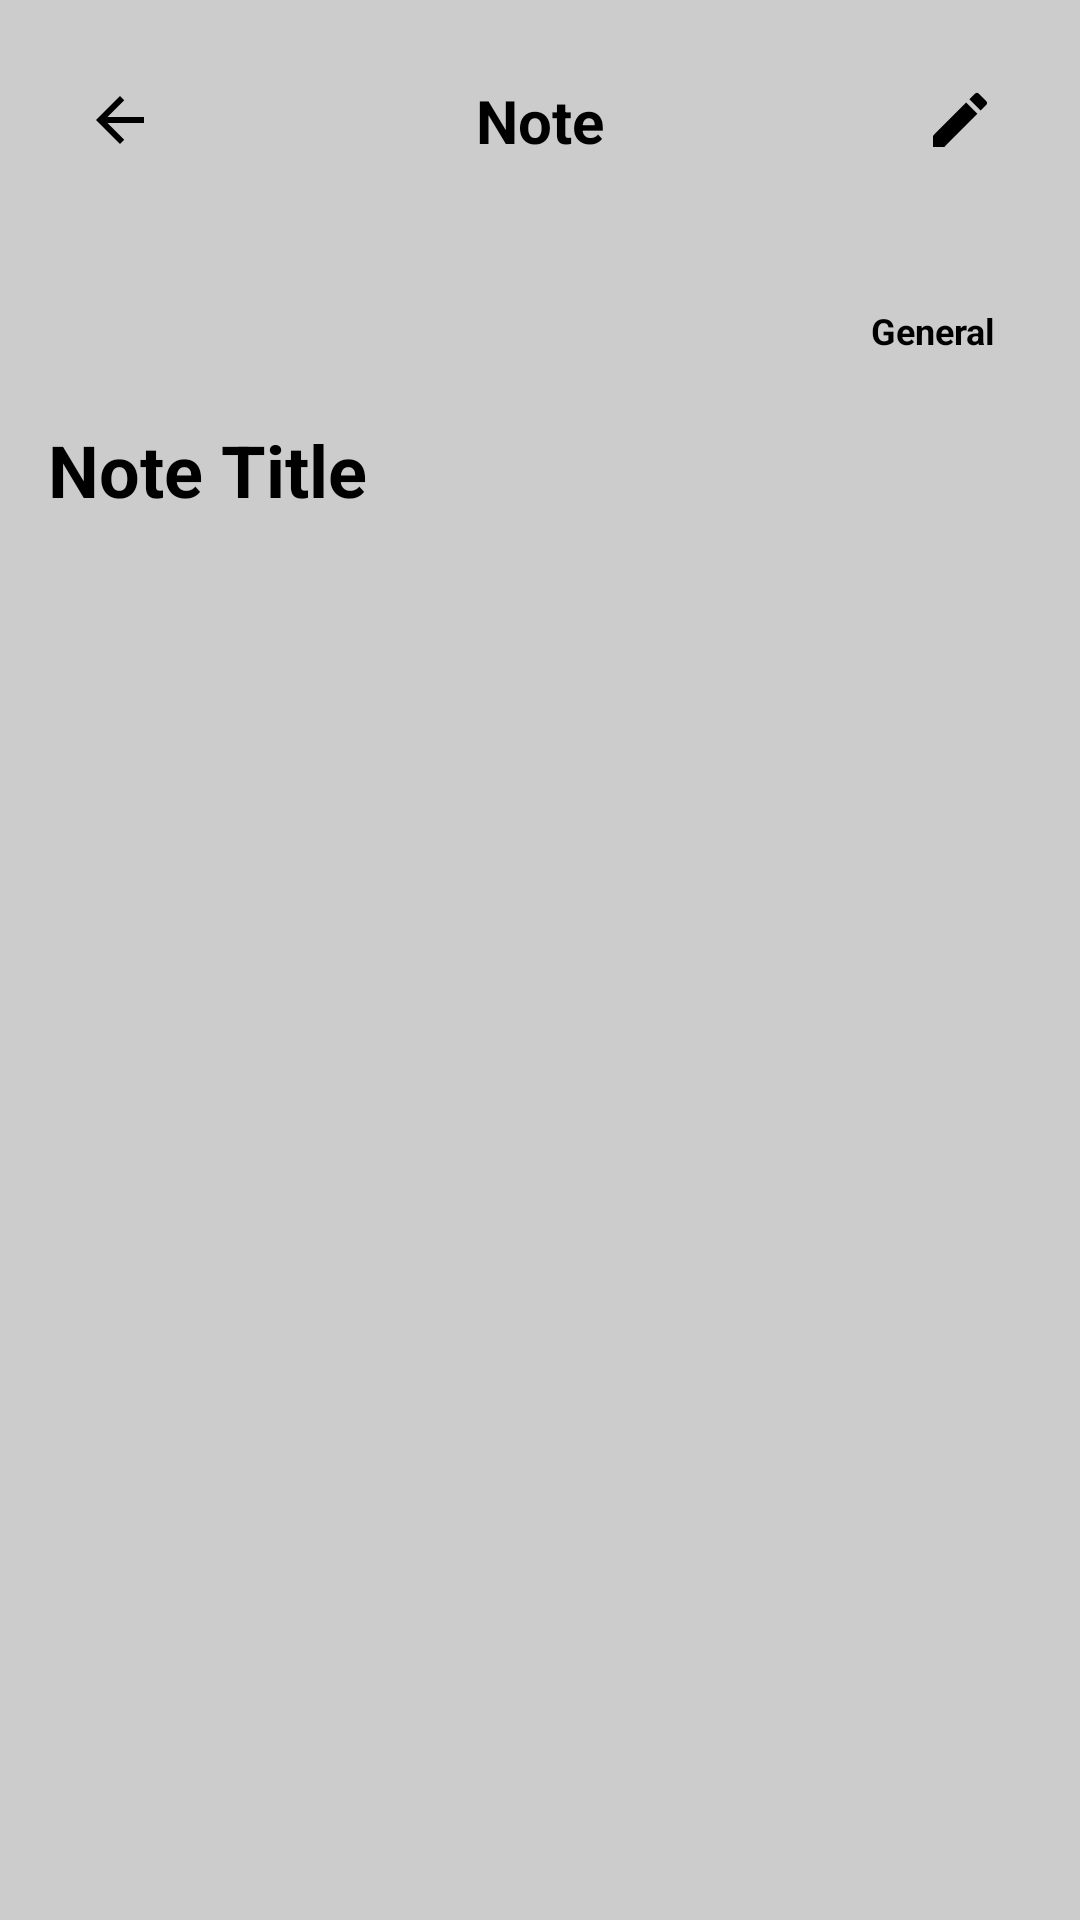

Named icons in this screenshot (1080px x 1920px) and their centers, (x,y):
Back: (120,120)
Edit: (960,120)
